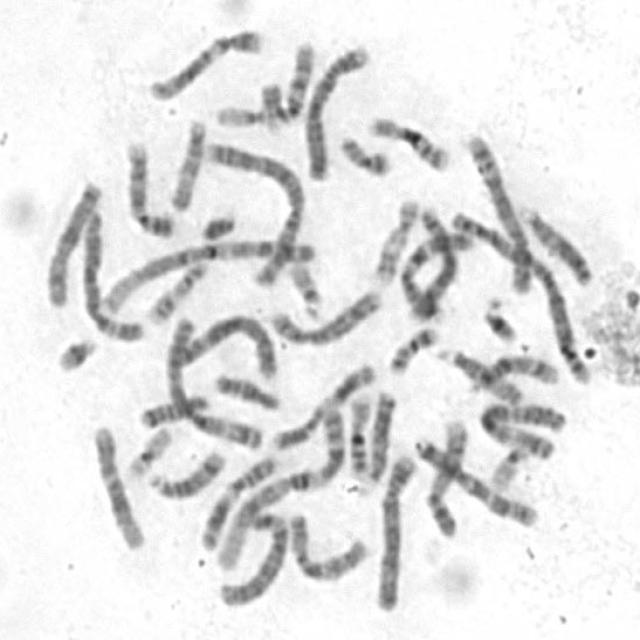A1: (202, 396, 349, 574), (90, 230, 320, 315)
A2: (444, 201, 594, 388), (198, 133, 304, 284)
A3: (158, 307, 266, 452), (473, 391, 566, 462)
B4: (296, 34, 373, 182), (366, 444, 420, 612)
B5: (456, 124, 536, 299), (160, 305, 280, 381)
C10: (396, 217, 474, 324), (280, 503, 373, 585)
C11: (265, 354, 379, 453), (194, 446, 281, 554)
C12: (140, 18, 266, 102), (84, 417, 148, 551)
C6: (73, 203, 146, 343), (211, 501, 291, 608)
C7: (408, 428, 540, 528), (396, 210, 472, 325)
C8: (456, 124, 536, 299), (262, 280, 385, 348)
C9: (419, 409, 473, 540), (117, 130, 178, 240)
D13: (512, 194, 596, 288), (352, 382, 398, 486)
D14: (140, 440, 228, 500), (462, 346, 562, 393)
D15: (429, 338, 526, 406), (162, 109, 208, 212)
E16: (360, 105, 454, 173), (342, 386, 376, 480)
E17: (365, 188, 421, 286), (140, 252, 210, 326)
E18: (206, 364, 283, 412), (133, 387, 213, 429)
F19: (207, 77, 287, 129), (120, 418, 174, 479)
F20: (382, 318, 442, 375), (331, 124, 394, 177)
G21: (476, 286, 522, 345), (49, 327, 101, 374)
G22: (280, 253, 328, 320), (483, 437, 532, 492)
X: (35, 171, 105, 310)
Y: (194, 201, 240, 243)
